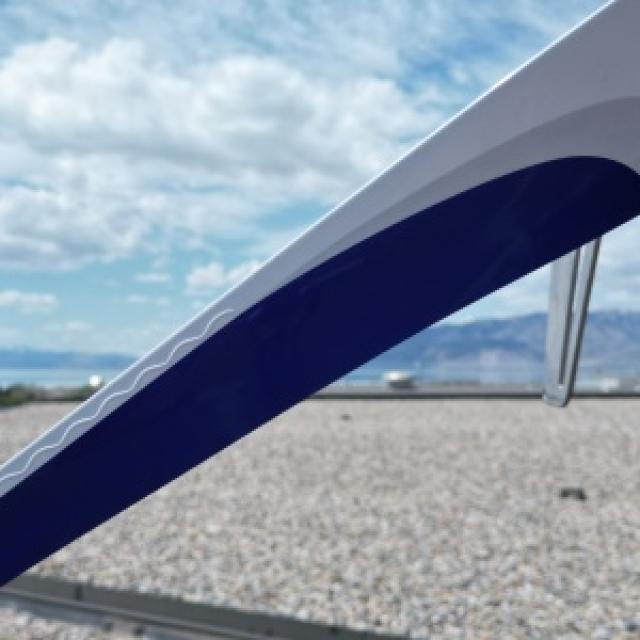healthy: (115, 454, 222, 593)
